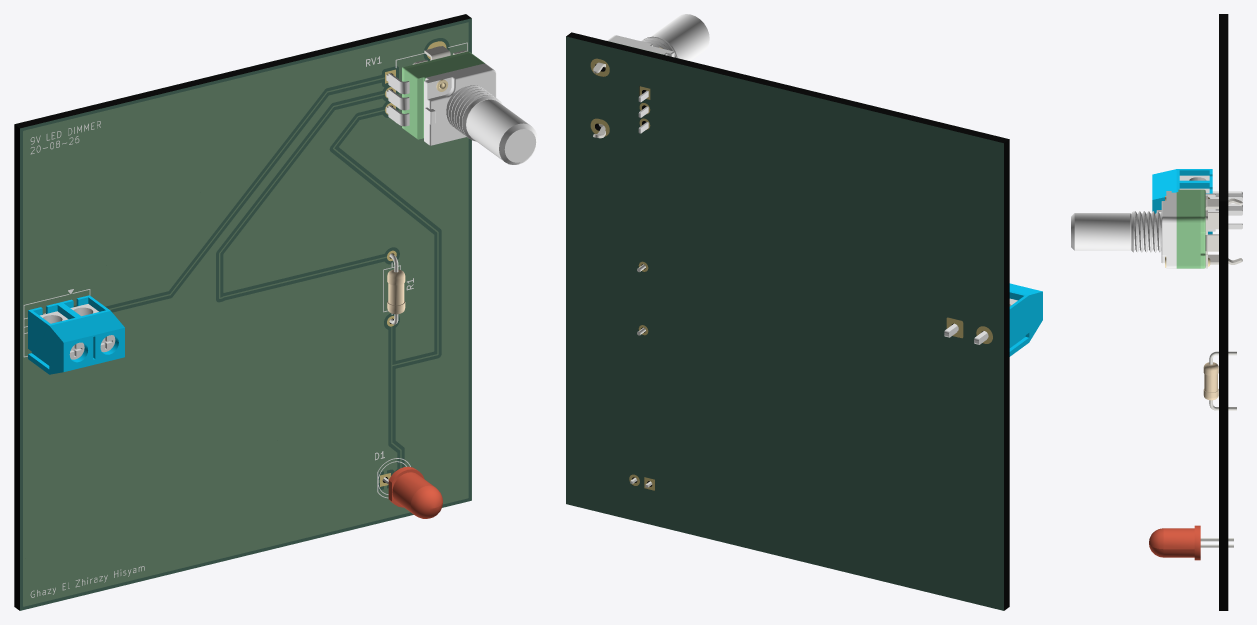
Rendered from 9V_LED_Dimmer.glb.
The picture shows the model from 3 angles, left to right: view 1: azimuth 30°, elevation 25°; view 2: azimuth 150°, elevation 25°; view 3: azimuth 270°, elevation 25°; orthographic projection. The views are drawn at different scales.
Visible parts, largest first — view 1: Shape (×15); view 2: Shape (×6); view 3: Shape (×13).
Part boxes in pixels (bbox=[...]): Shape (×15): bbox=[14, 14, 536, 610]; Shape (×6): bbox=[566, 14, 1042, 610]; Shape (×13): bbox=[1074, 14, 1228, 610].
Bounding box in the file's own units: 0.0735 × 0.075 × 0.0285.
